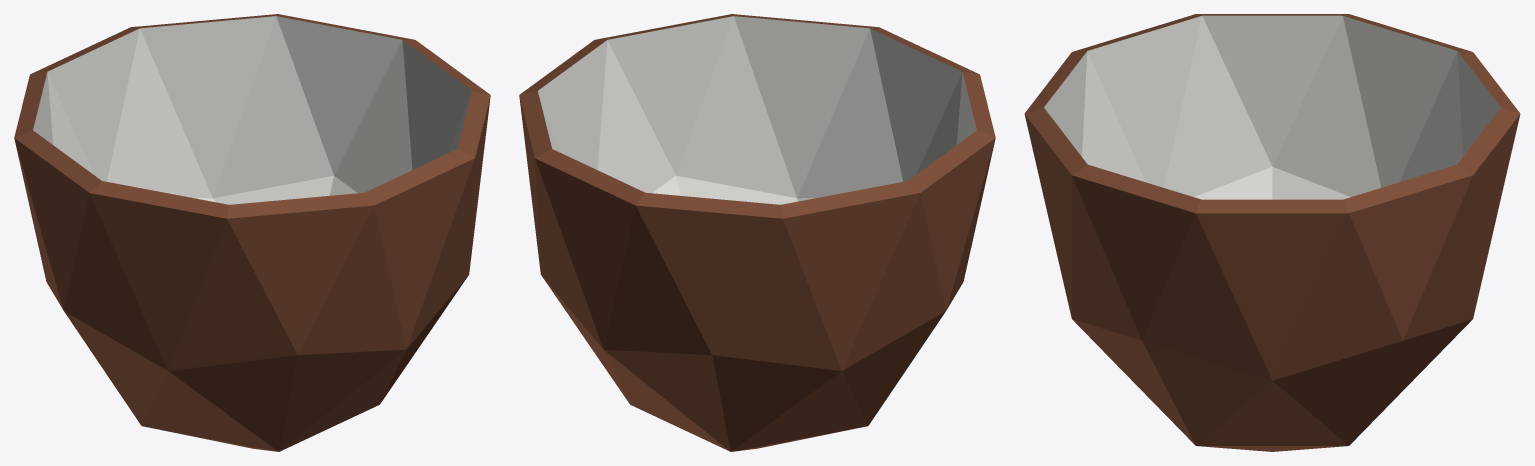
Rendered from Oval Brokonut.fbx.
3 renders of one model, left to right at view 1: azimuth 30°, elevation 25°; view 2: azimuth 150°, elevation 25°; view 3: azimuth 270°, elevation 25°, orthographic.
Parts seen in each view (by area): view 1: Oval Brokonut; view 2: Oval Brokonut; view 3: Oval Brokonut.
Part boxes in pixels (box(x1,y1,x2,y2)): Oval Brokonut: box(14, 14, 490, 451); Oval Brokonut: box(519, 14, 995, 451); Oval Brokonut: box(1024, 14, 1520, 451).
Bounding box in the file's own units: 190 × 153 × 200.
